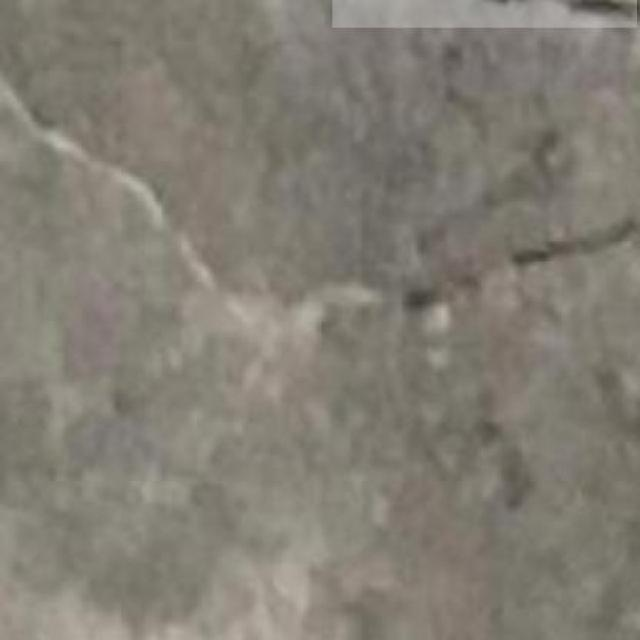Crack: (0, 50, 227, 299), (366, 188, 640, 337)
